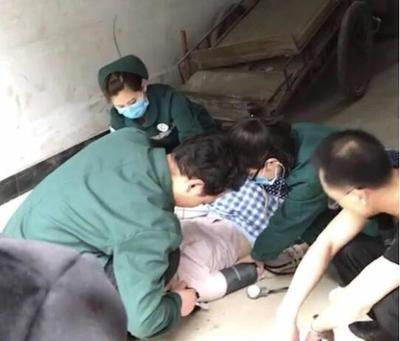fall: (150, 170, 294, 314)
